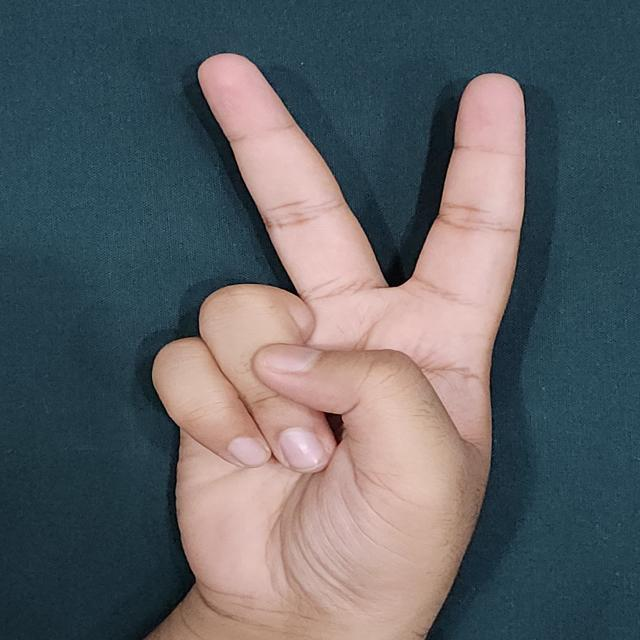پ: (140, 43, 531, 640)
